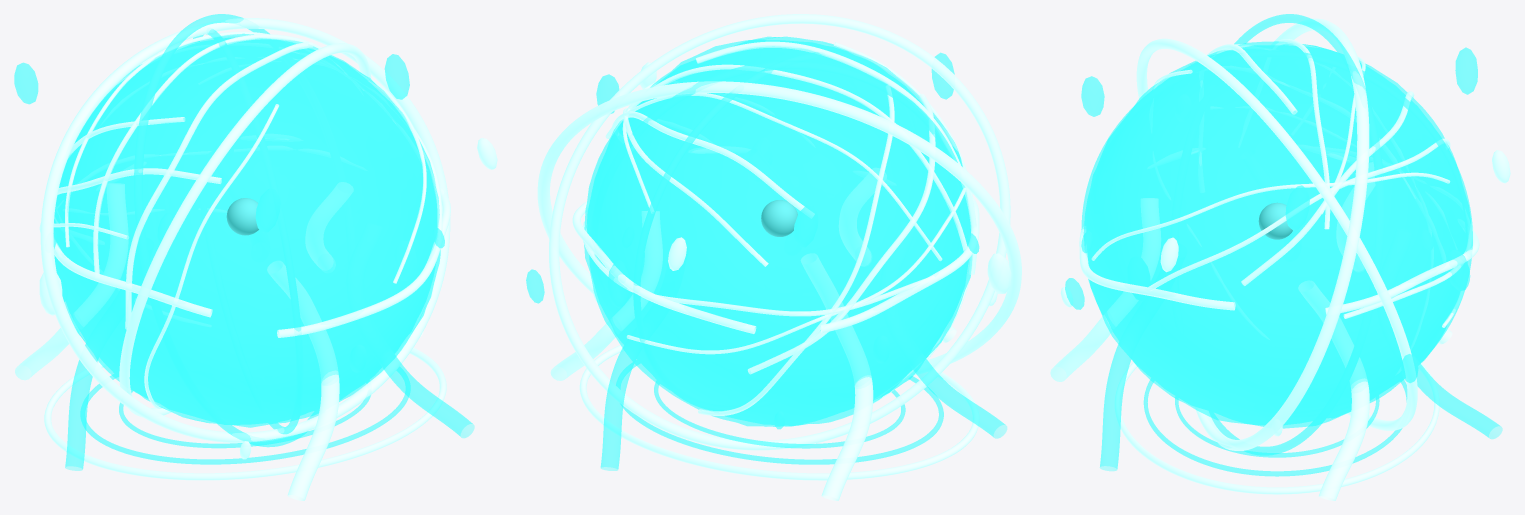
The model's file is SkillC_WaterSphere.fbx.
3 views of the same model, side by side, from view 1: azimuth 30°, elevation 25°; view 2: azimuth 150°, elevation 25°; view 3: azimuth 270°, elevation 25° (orthographic).
Parts seen in each view (by area): view 1: GEO-SkillC-WaterSphere, GEO-SkillC-Orbit-01, GEO-SkillC-Orbit-03, GEO-SkillC-Orbit-02, GEO-SkillC-WaterColumn-06, GEO-SkillC-WaterColumn-05, GEO-SkillC-GroundRipple-01, GEO-SkillC-WaterColumn-03, GEO-SkillC-WaterColumn-04, GEO-SkillC-Orbit-04, GEO-SkillC-SurfaceCurrent-06, GEO-SkillC-GroundRipple-02 (+20 smaller); view 2: GEO-SkillC-WaterSphere, GEO-SkillC-Orbit-02, GEO-SkillC-Orbit-01, GEO-SkillC-Orbit-03, GEO-SkillC-WaterColumn-03, GEO-SkillC-GroundRipple-01, GEO-SkillC-WaterColumn-04, GEO-SkillC-Orbit-04, GEO-SkillC-WaterColumn-02, GEO-SkillC-WaterColumn-01, GEO-SkillC-SurfaceCurrent-06, GEO-SkillC-GroundRipple-02 (+20 smaller); view 3: GEO-SkillC-WaterSphere, GEO-SkillC-Orbit-01, GEO-SkillC-Orbit-02, GEO-SkillC-Orbit-03, GEO-SkillC-Orbit-04, GEO-SkillC-WaterColumn-01, GEO-SkillC-WaterColumn-06, GEO-SkillC-WaterColumn-02, GEO-SkillC-GroundRipple-01, GEO-SkillC-WaterColumn-05, GEO-SkillC-SurfaceCurrent-02, GEO-SkillC-EquatorStream-03 (+21 smaller).
Part boxes in pixels (left/top/right/bottom): GEO-SkillC-WaterSphere: left=53, top=33, right=440, bottom=427; GEO-SkillC-Orbit-01: left=40, top=18, right=450, bottom=443; GEO-SkillC-Orbit-03: left=134, top=14, right=350, bottom=447; GEO-SkillC-Orbit-02: left=119, top=43, right=371, bottom=417; GEO-SkillC-WaterColumn-06: left=346, top=223, right=474, bottom=437; GEO-SkillC-WaterColumn-05: left=267, top=261, right=339, bottom=500; GEO-SkillC-GroundRipple-01: left=44, top=347, right=446, bottom=480; GEO-SkillC-WaterColumn-03: left=15, top=183, right=128, bottom=380; GEO-SkillC-WaterColumn-04: left=65, top=246, right=153, bottom=470; GEO-SkillC-Orbit-04: left=193, top=29, right=303, bottom=434; GEO-SkillC-SurfaceCurrent-06: left=125, top=42, right=313, bottom=329; GEO-SkillC-GroundRipple-02: left=80, top=367, right=410, bottom=464; GEO-SkillC-WaterSphere: left=584, top=36, right=972, bottom=426; GEO-SkillC-Orbit-02: left=549, top=14, right=1010, bottom=450; GEO-SkillC-Orbit-01: left=537, top=81, right=1021, bottom=375; GEO-SkillC-Orbit-03: left=591, top=60, right=969, bottom=332; GEO-SkillC-WaterColumn-03: left=801, top=253, right=873, bottom=500; GEO-SkillC-GroundRipple-01: left=579, top=344, right=979, bottom=480; GEO-SkillC-WaterColumn-04: left=880, top=222, right=1006, bottom=438; GEO-SkillC-Orbit-04: left=633, top=51, right=912, bottom=409; GEO-SkillC-WaterColumn-02: left=600, top=252, right=688, bottom=470; GEO-SkillC-WaterColumn-01: left=550, top=211, right=662, bottom=380; GEO-SkillC-SurfaceCurrent-06: left=696, top=41, right=976, bottom=275; GEO-SkillC-GroundRipple-02: left=616, top=360, right=943, bottom=464; GEO-SkillC-WaterSphere: left=1083, top=41, right=1470, bottom=428; GEO-SkillC-Orbit-01: left=1195, top=18, right=1369, bottom=450; GEO-SkillC-Orbit-02: left=1136, top=38, right=1417, bottom=430; GEO-SkillC-Orbit-03: left=1170, top=14, right=1384, bottom=455; GEO-SkillC-Orbit-04: left=1081, top=50, right=1472, bottom=414; GEO-SkillC-WaterColumn-01: left=1298, top=280, right=1369, bottom=500; GEO-SkillC-WaterColumn-06: left=1100, top=256, right=1185, bottom=470; GEO-SkillC-WaterColumn-02: left=1377, top=229, right=1502, bottom=438; GEO-SkillC-GroundRipple-01: left=1115, top=362, right=1439, bottom=494; GEO-SkillC-WaterColumn-05: left=1050, top=198, right=1160, bottom=381; GEO-SkillC-SurfaceCurrent-02: left=1148, top=138, right=1450, bottom=290; GEO-SkillC-EquatorStream-03: left=1079, top=224, right=1235, bottom=310.
Size of the model in its own units: 6.65 by 5.69 by 6.13.
